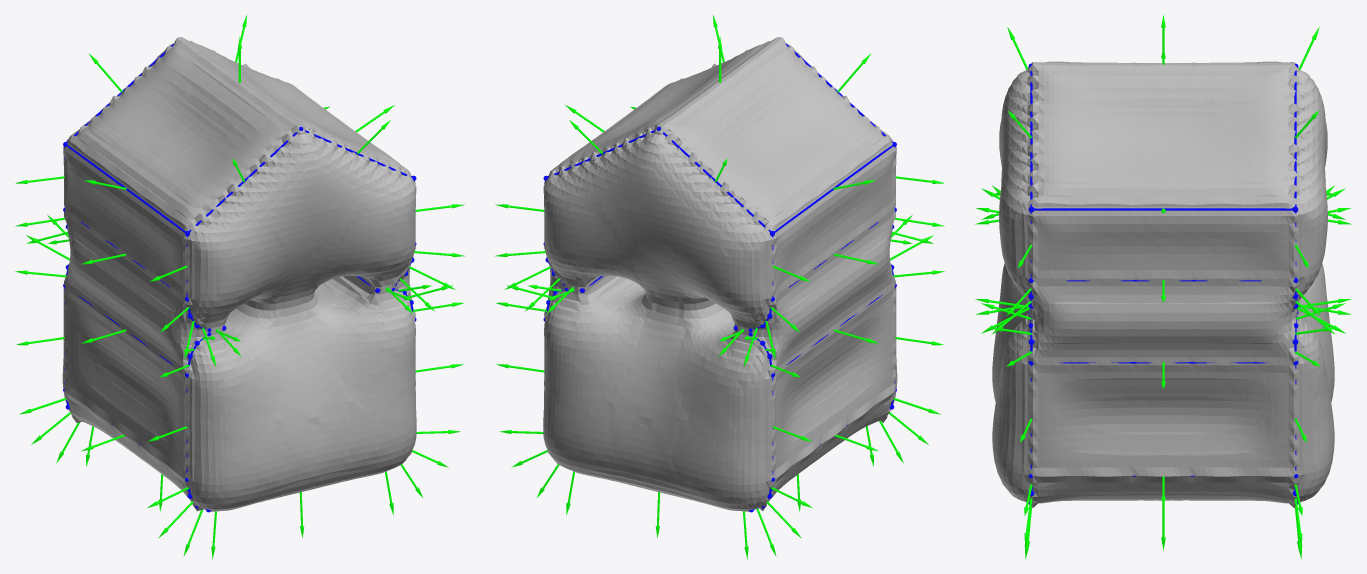
Rendered from onshape_house.gltf.
The picture shows the model from 3 angles, left to right: view 1: azimuth 30°, elevation 25°; view 2: azimuth 150°, elevation 25°; view 3: azimuth 270°, elevation 25°; orthographic projection. The views are drawn at different scales.
Bounding box in the file's own units: 0.6888 × 0.9436 × 0.6528.
